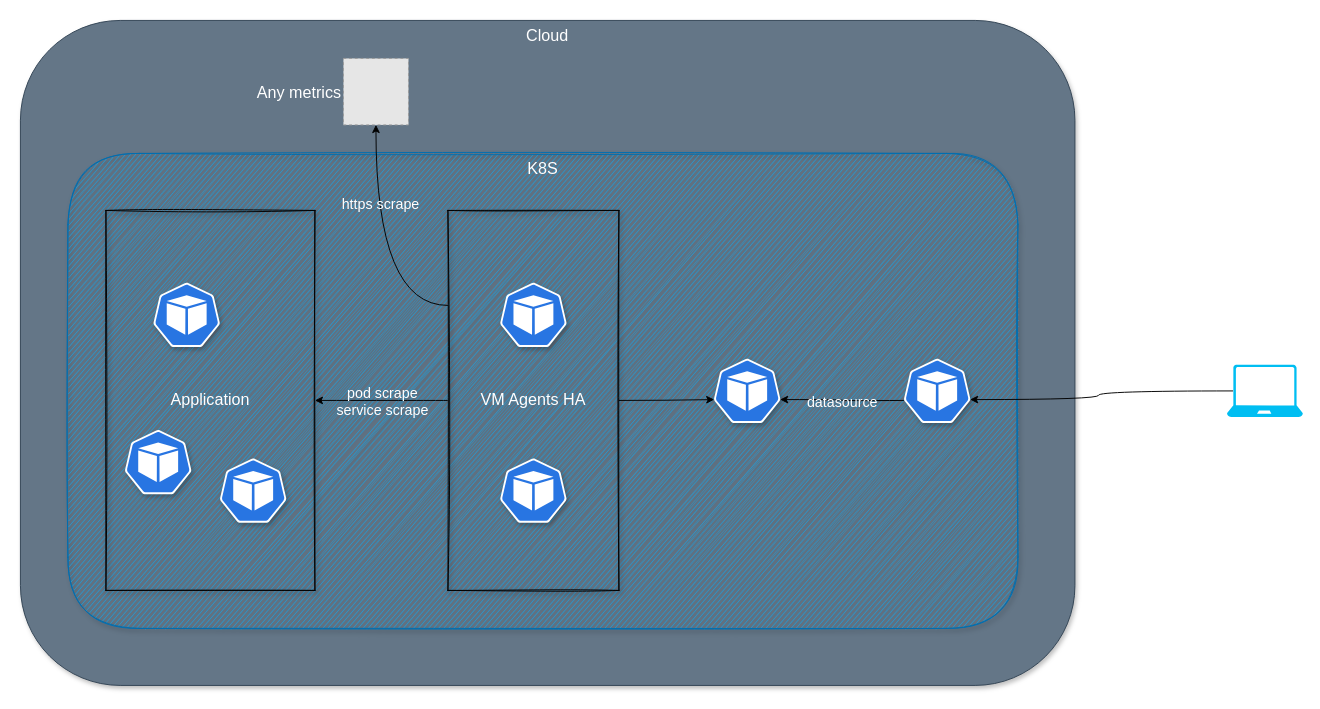
Image size: 1320x709. Some labels were removed from this diagram. Grey dashed boxes stand in for pictures. The centre of each missing label's shape, as x and y in pixels:
Grafana: the point at 937,392
VMSingle: the point at 747,392
